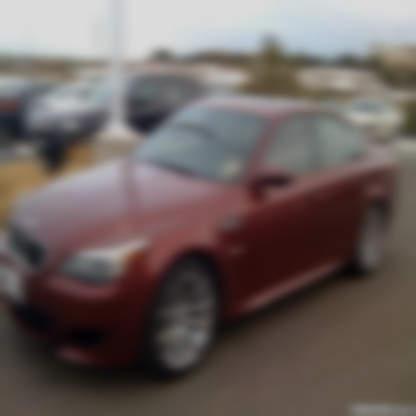Vehicle: (3, 97, 402, 382)
